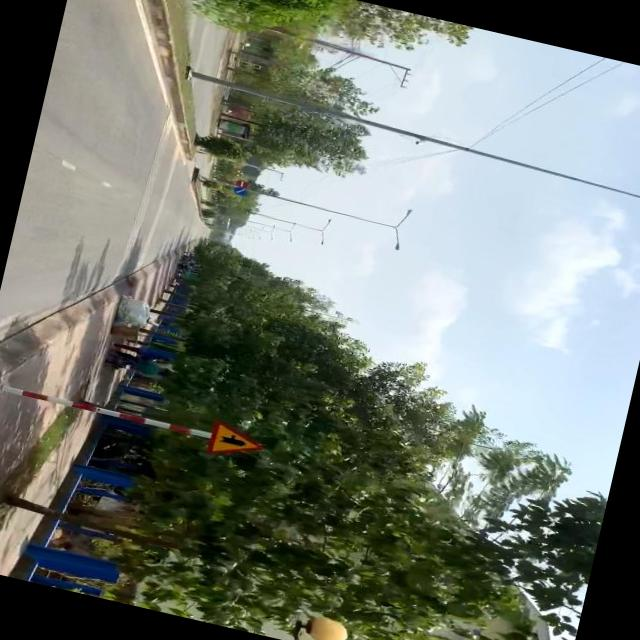P-102: (232, 178, 250, 190)
R-302a: (230, 185, 248, 197)
W-207c: (200, 418, 267, 467)
